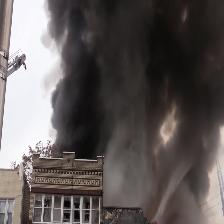smoke: (59, 5, 214, 206)
